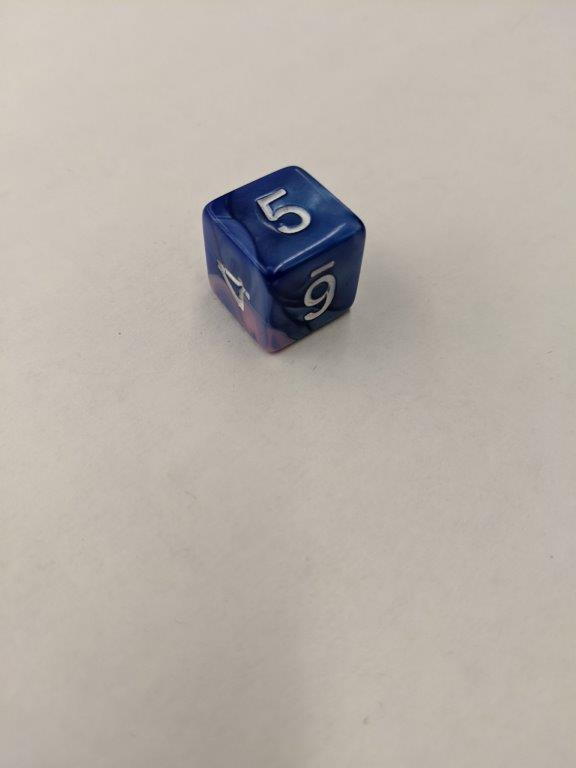d6-5: (202, 163, 369, 354)
